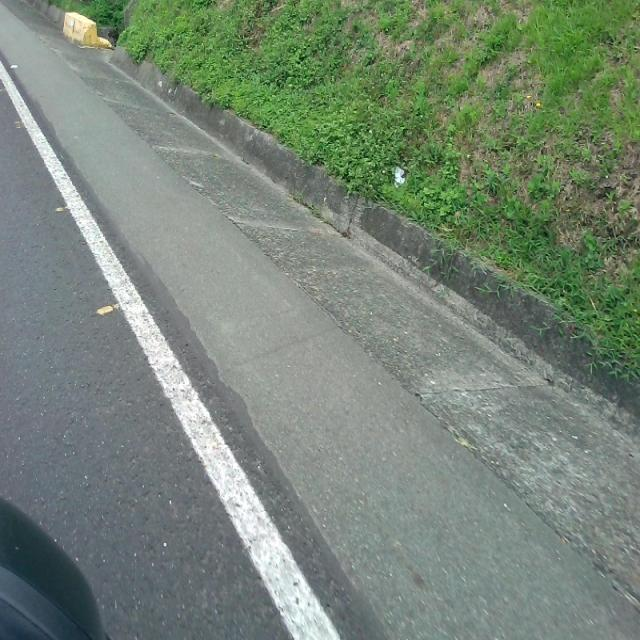DITCH: (1, 2, 639, 637), (1, 2, 638, 637)
